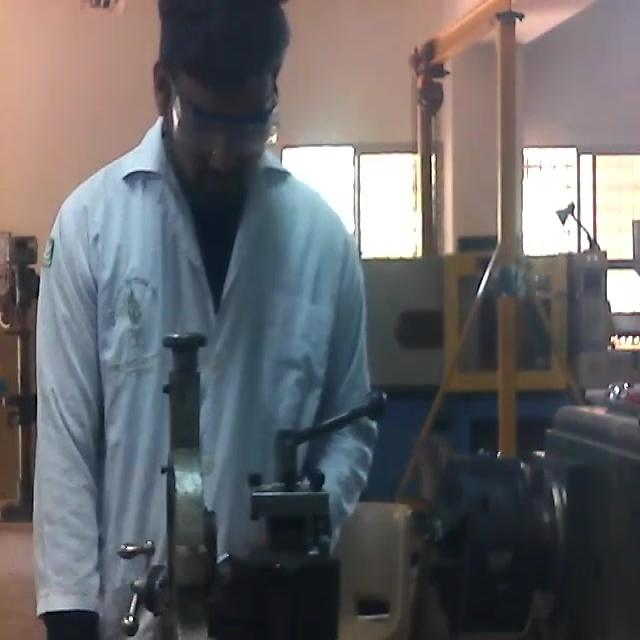googles: (168, 92, 282, 170)
labcoat: (35, 108, 375, 640)
